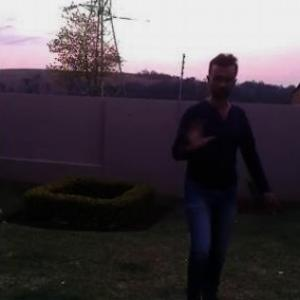follow_hand: (182, 115, 218, 150)
